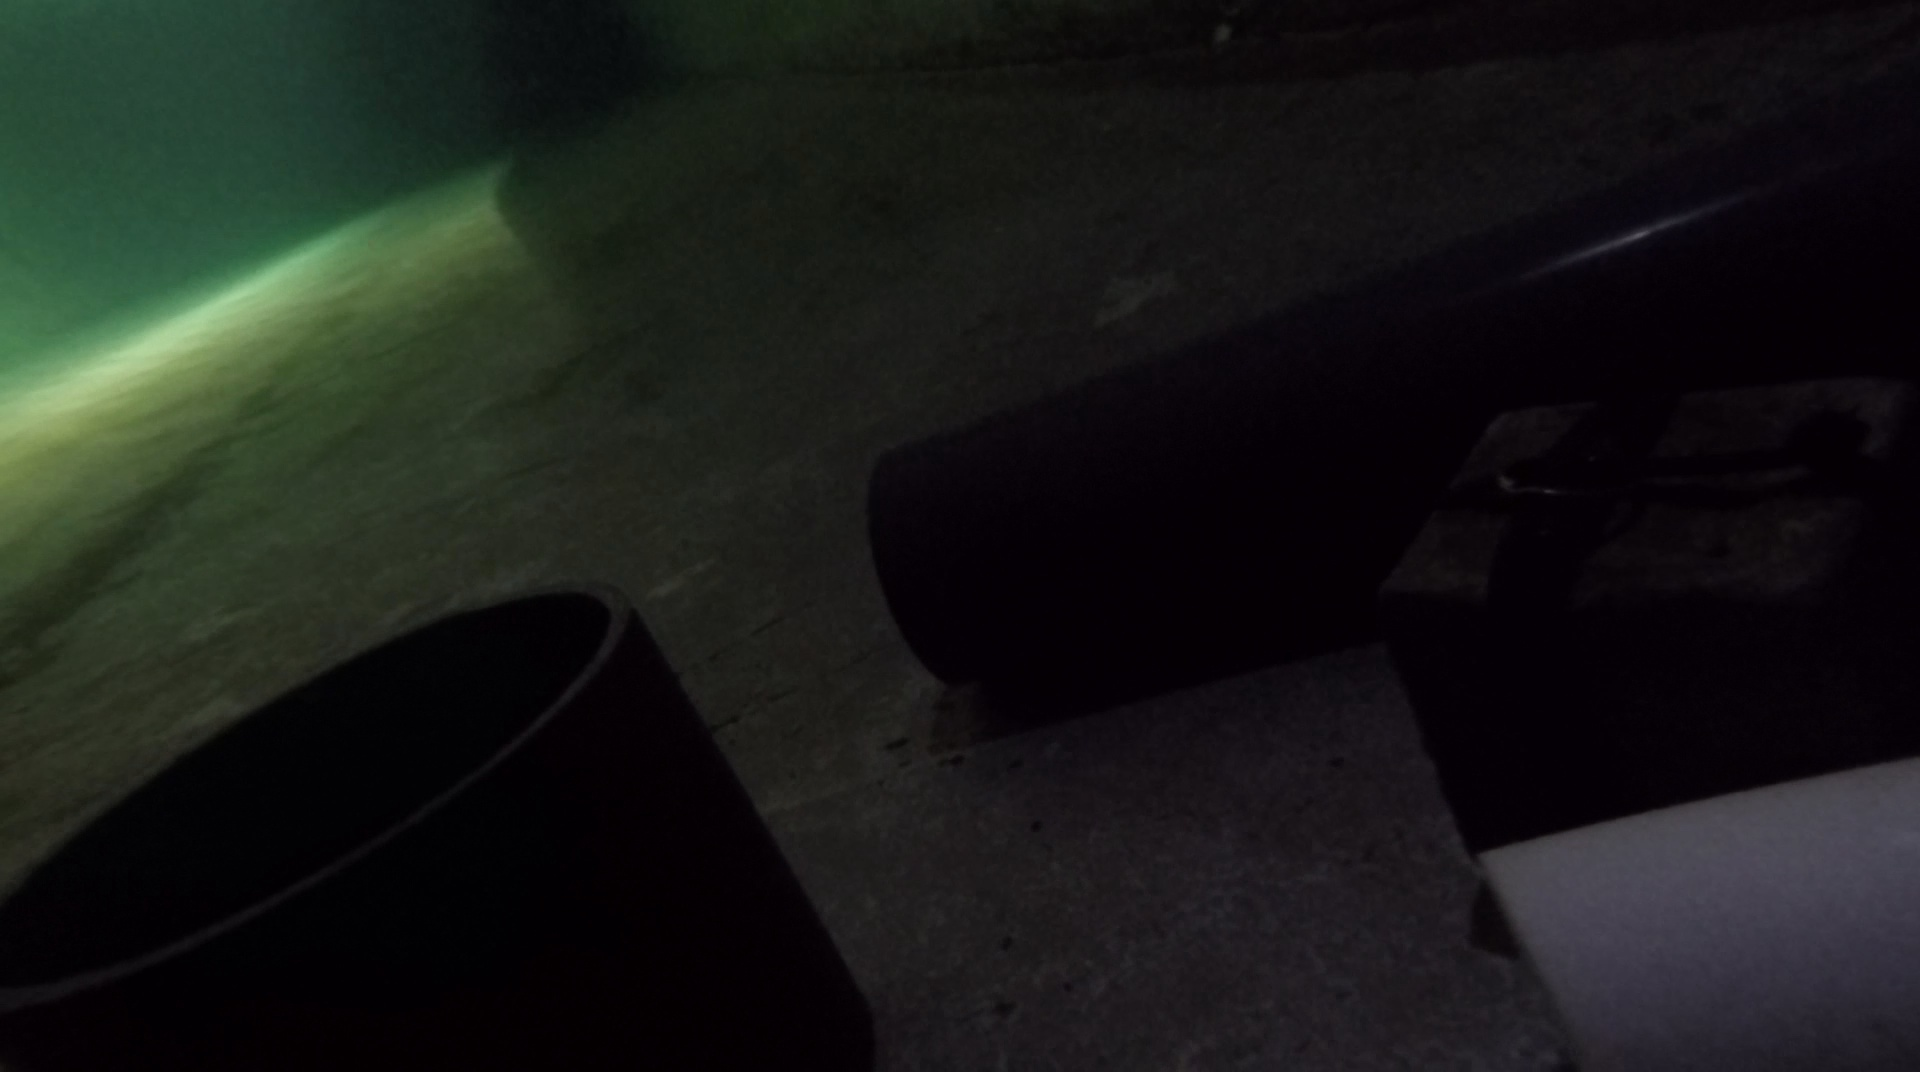led_block: (1379, 378, 1917, 849)
pipe: (866, 88, 1920, 680), (1, 576, 878, 1069), (1472, 752, 1920, 1063)
